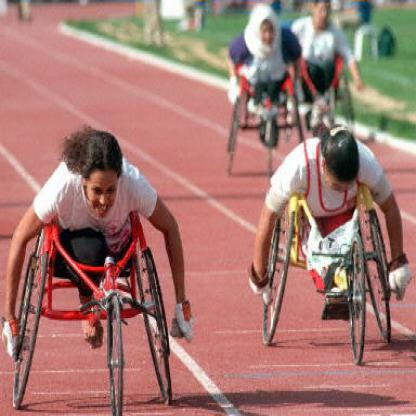wheelchair: (0, 126, 191, 414), (249, 122, 412, 366), (226, 3, 309, 181), (282, 0, 364, 167)
